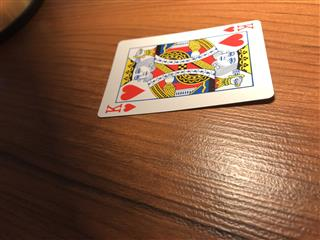KingOfHearts: (97, 18, 274, 117)
